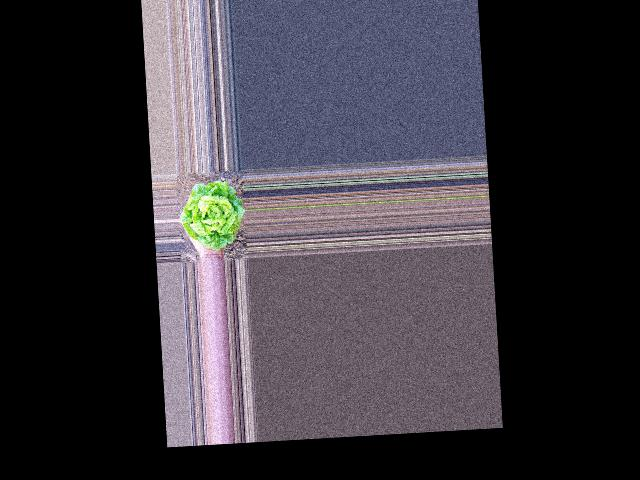lettuce: (179, 178, 245, 247)
